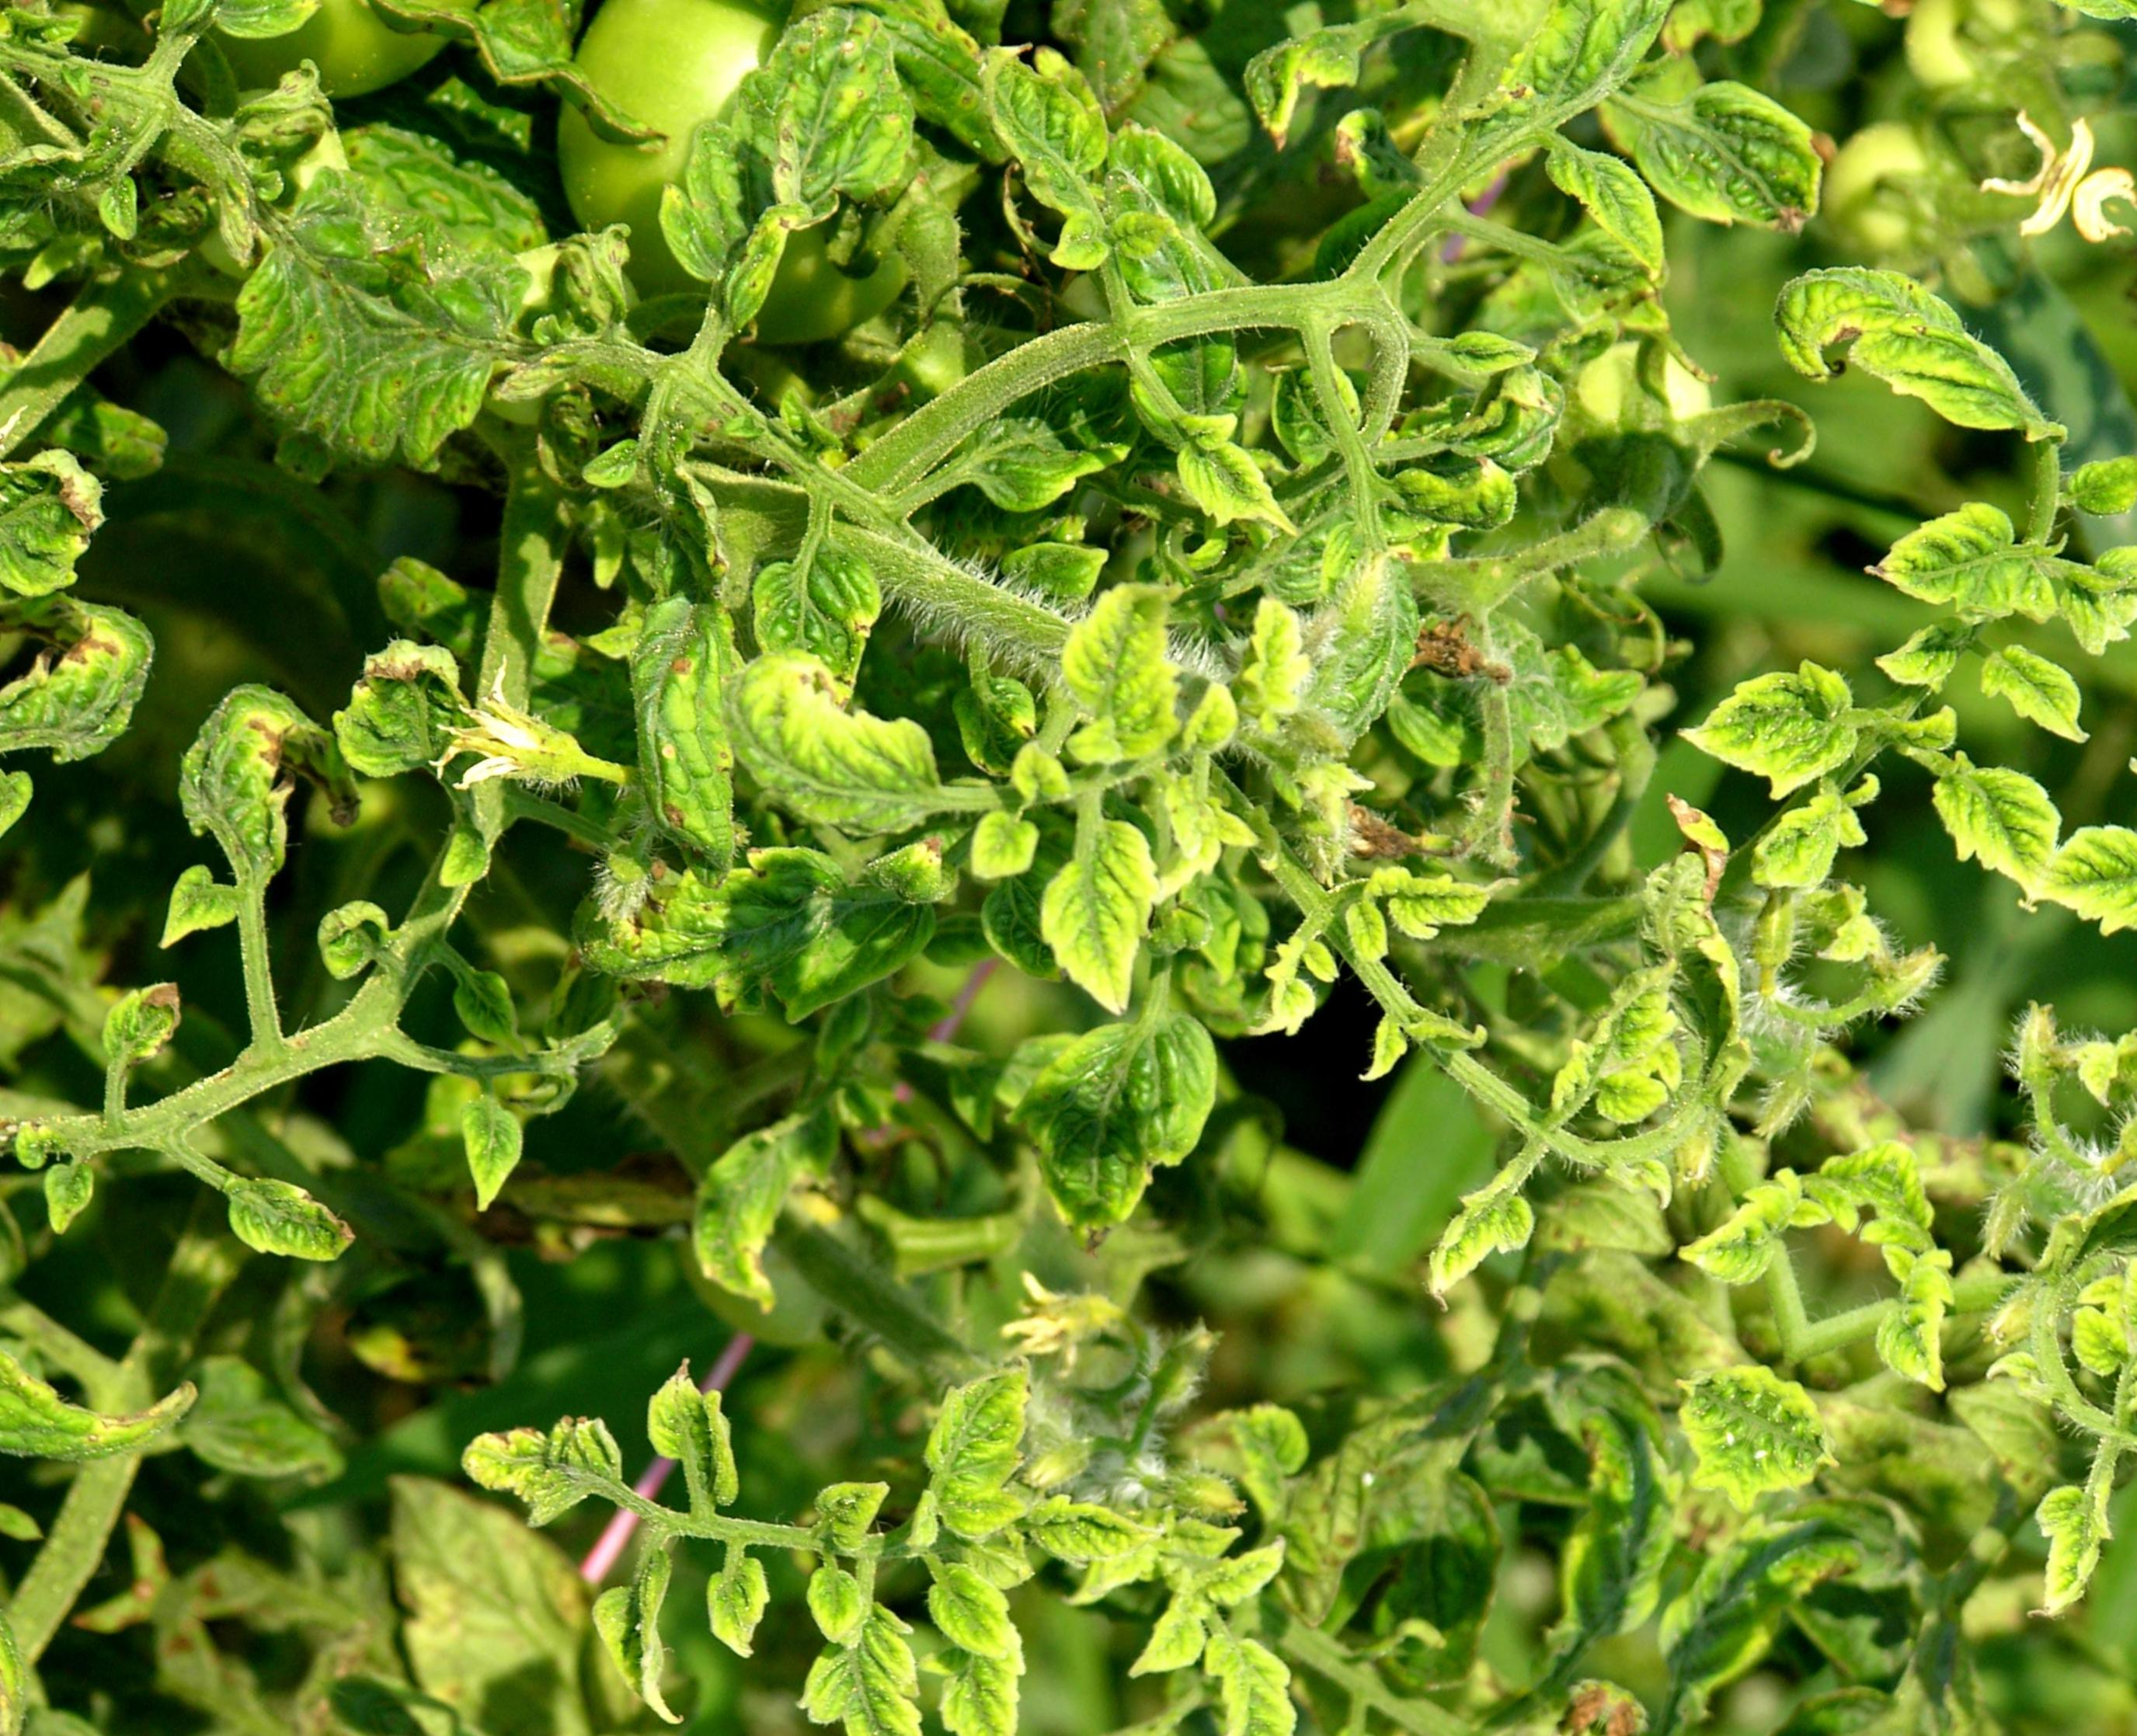Tomato leaf yellow virus: (581, 0, 1017, 399), (929, 928, 1269, 1314), (962, 523, 1290, 889), (526, 572, 854, 909), (863, 0, 1221, 282), (1731, 209, 2082, 491), (110, 636, 397, 944), (1830, 425, 2132, 698), (688, 620, 976, 877), (978, 779, 1246, 1056), (0, 1167, 188, 1546), (1627, 597, 1903, 854), (1584, 30, 1859, 273), (702, 1518, 996, 1736), (424, 1327, 666, 1568), (1533, 942, 1737, 1194), (1885, 701, 2098, 919), (1366, 1135, 1563, 1348), (1611, 1321, 1786, 1531), (1150, 1596, 1384, 1736), (1646, 1150, 1815, 1314), (911, 1598, 1079, 1736), (592, 0, 946, 35)
